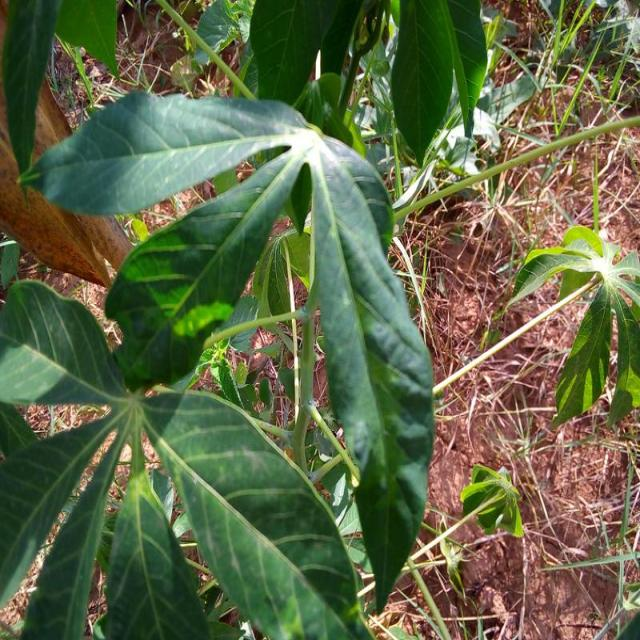cassava leaf: (18, 88, 436, 616), (142, 387, 376, 638), (18, 88, 312, 216)
